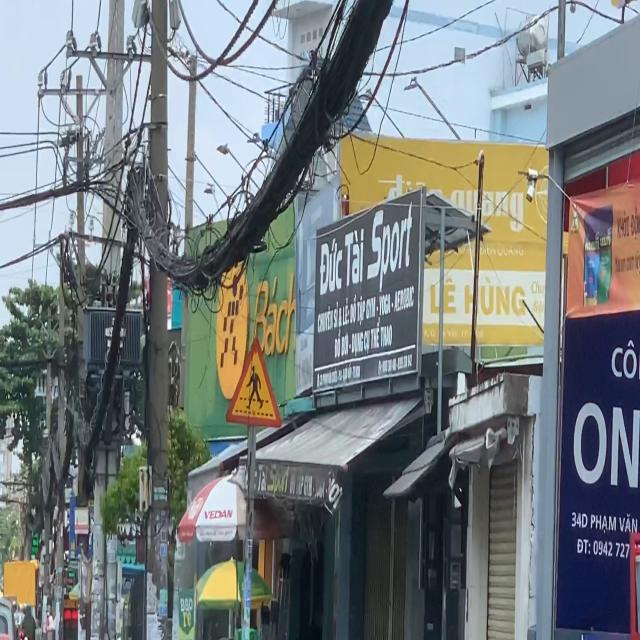Nguoi di bo cat ngang: (224, 332, 284, 436)
